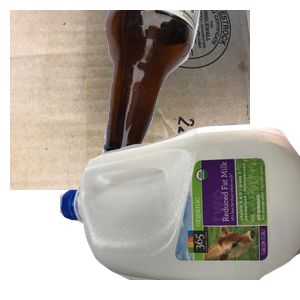cardboard: (10, 10, 250, 190)
glass: (99, 10, 300, 170)
plastic: (60, 120, 300, 300)
trash: (74, 148, 273, 300)
